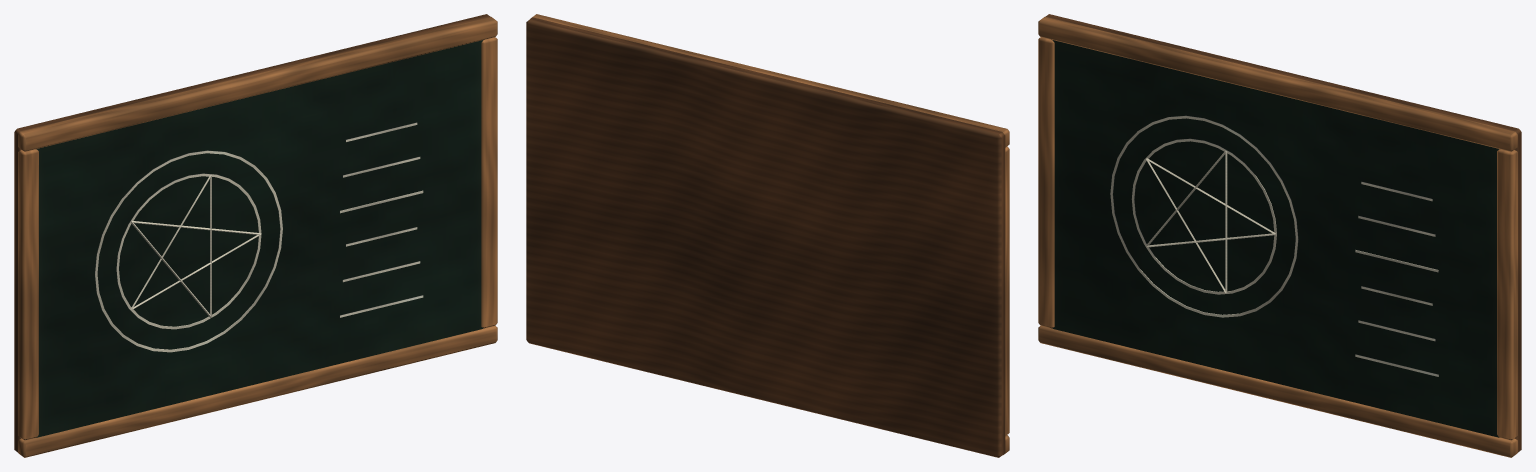
The model's file is Furn_MagicClub_RuneBoard.fbx.
The picture shows the model from 3 angles, left to right: view 1: azimuth 30°, elevation 25°; view 2: azimuth 150°, elevation 25°; view 3: azimuth 330°, elevation 25°; orthographic projection.
Parts seen in each view (by area): view 1: Furn_MagicClub_RuneBoard; view 2: Furn_MagicClub_RuneBoard; view 3: Furn_MagicClub_RuneBoard.
Boxes of the visible parts, bbox=[...] form: Furn_MagicClub_RuneBoard: bbox=[14, 14, 497, 457]; Furn_MagicClub_RuneBoard: bbox=[526, 14, 1009, 457]; Furn_MagicClub_RuneBoard: bbox=[1038, 14, 1521, 457].
Size of the model in its own units: 2 by 1.3 by 0.08.
Materials: 3 (3 with a texture image).
